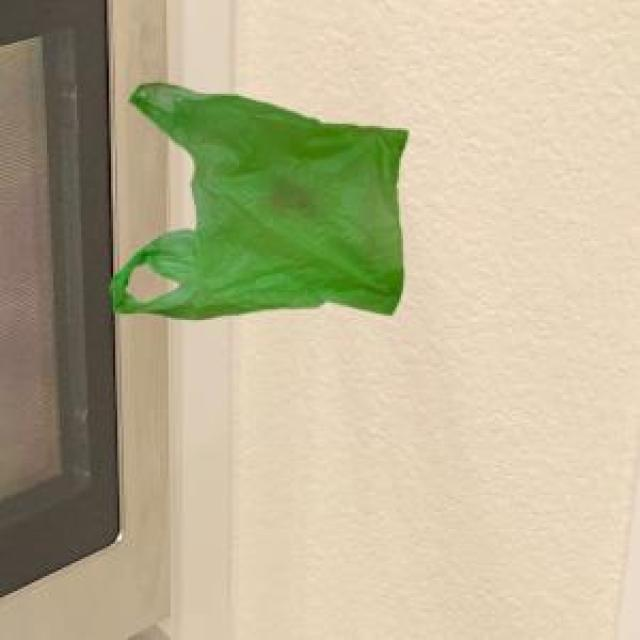plastic: (94, 41, 427, 356)
